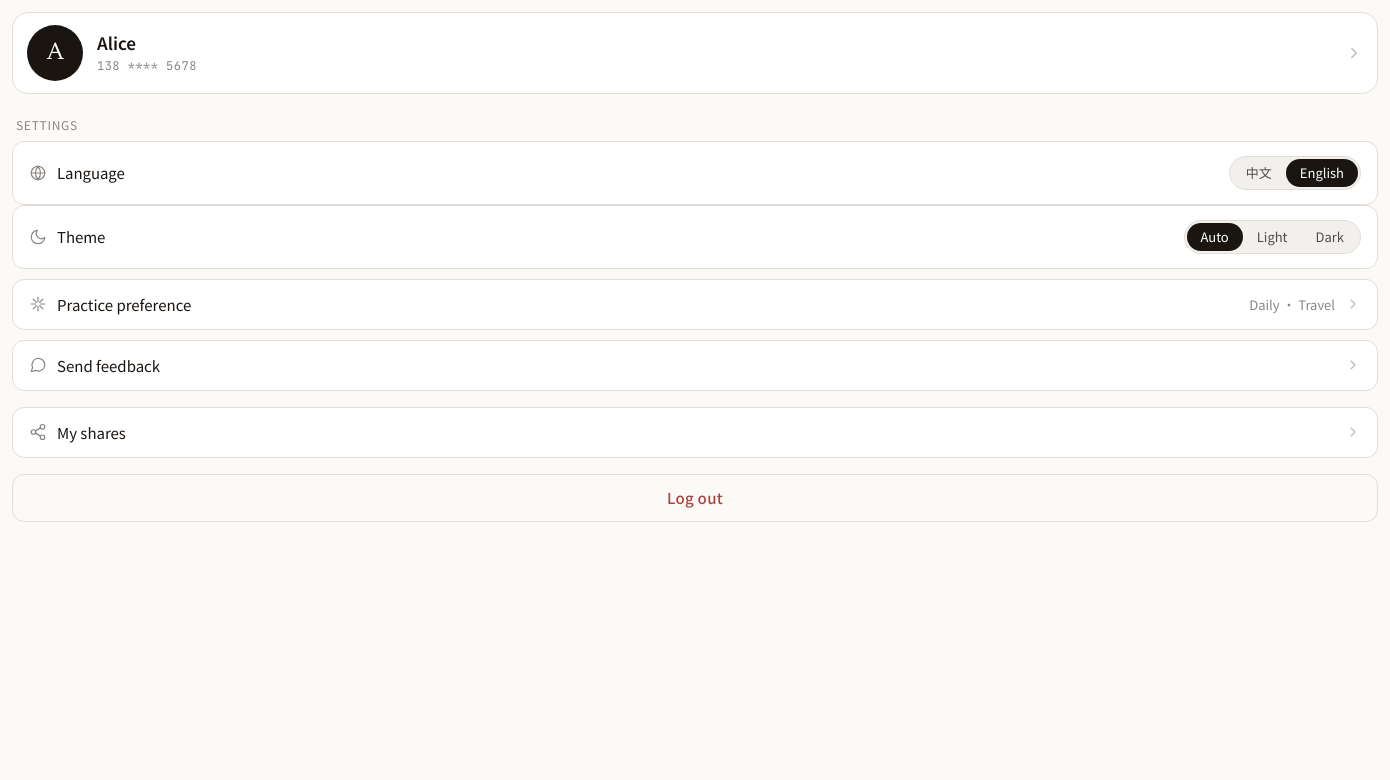
it: ProfilePage › opens practice preference page and saves changes immediately
Expected: the text "Daily · Travel" is shown, [1249,295,1335,314]
Click the text "Practice preference": (124, 304) [57,294,191,315]
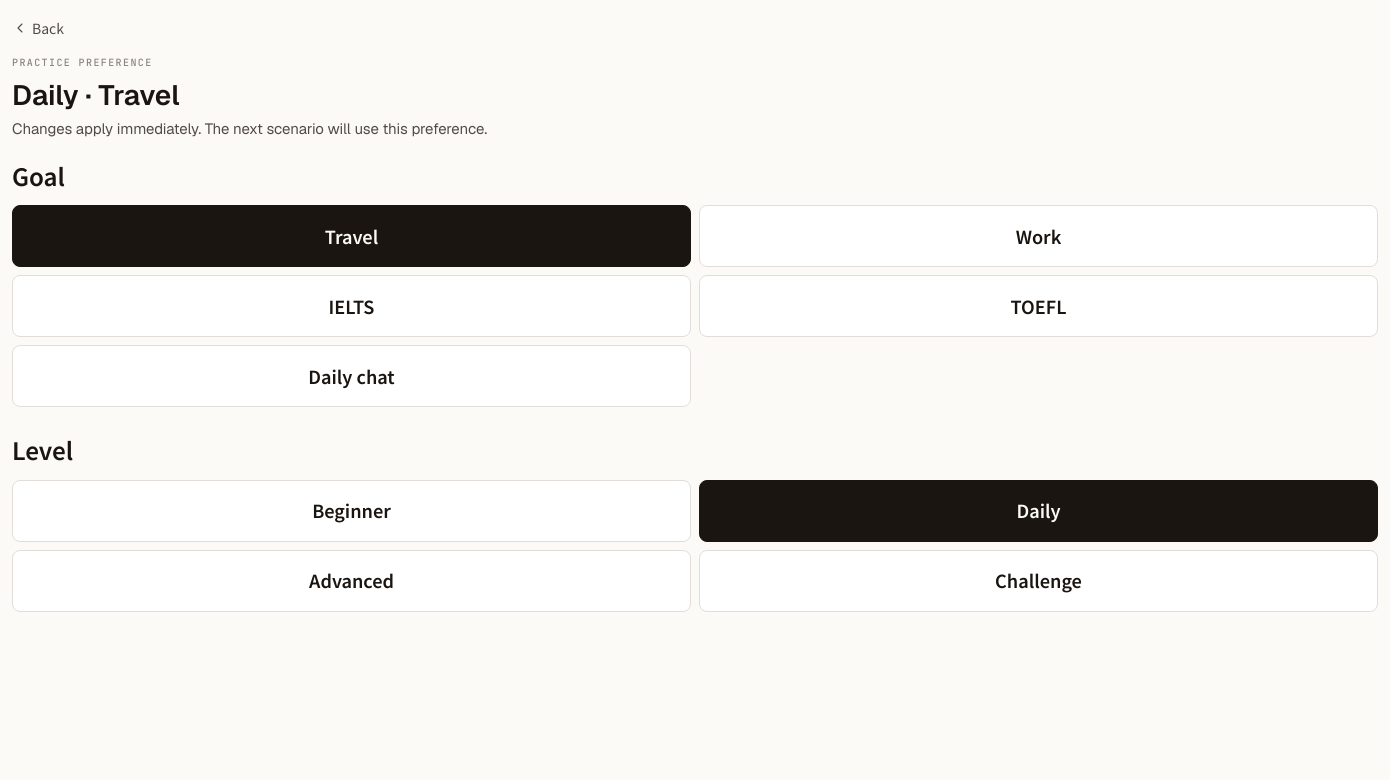
Click the radio button "Challenge": (1038, 581) [699,550,1378,612]
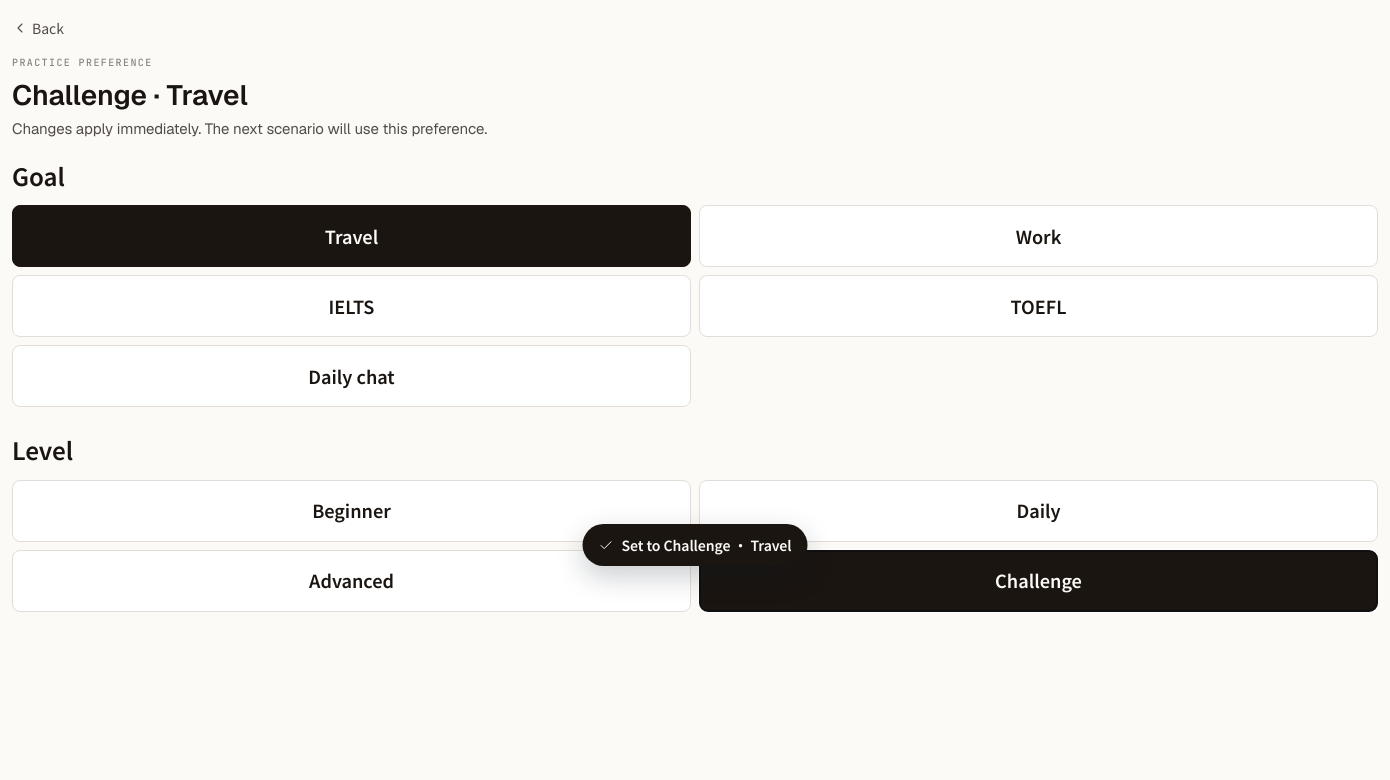
Click the radio button "Work": (1038, 236) [699,206,1378,268]
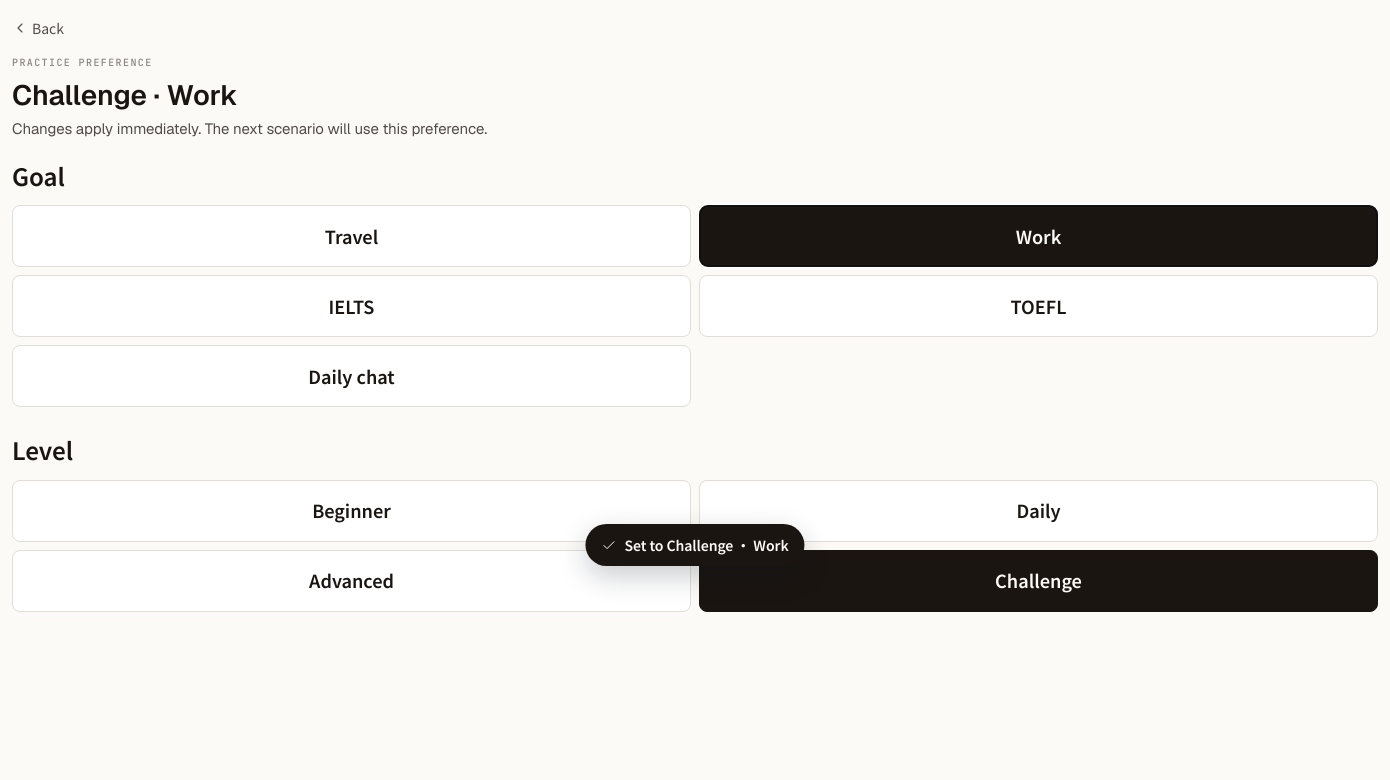
Expected: the text "Set to Challenge · Work" is shown, [624,535,788,555]
